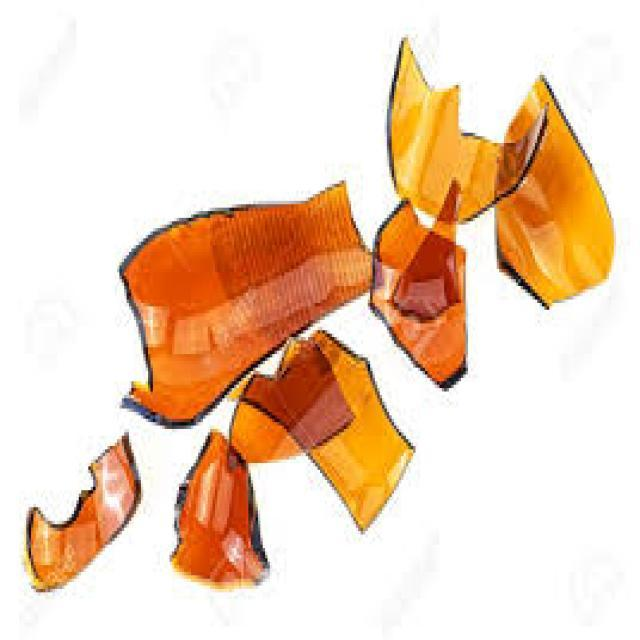Glass-Bottle: (100, 154, 386, 430), (213, 322, 426, 532), (496, 76, 624, 328), (379, 31, 542, 209), (19, 418, 155, 599), (368, 182, 482, 388), (163, 424, 289, 588)
